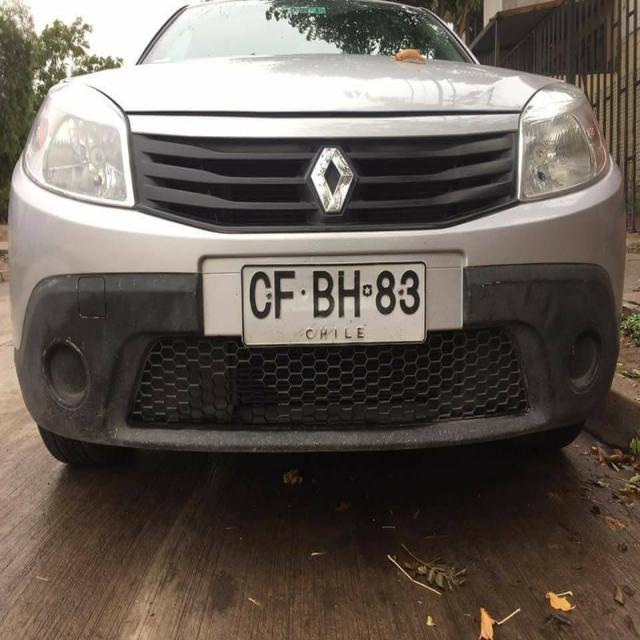patente: (240, 260, 427, 346)
